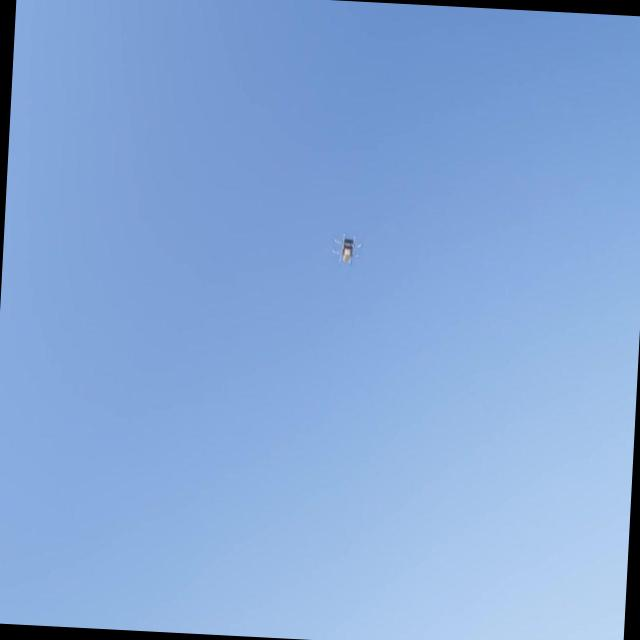drone: (328, 226, 367, 270)
